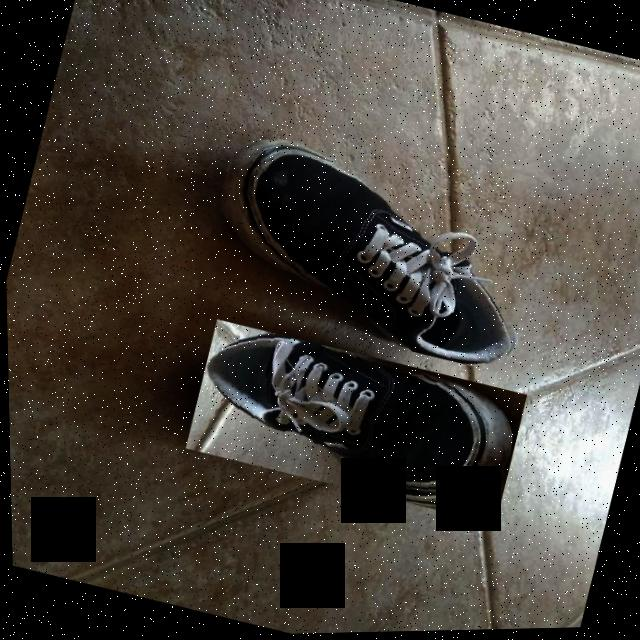shoe: (190, 123, 553, 383), (180, 314, 527, 531)
